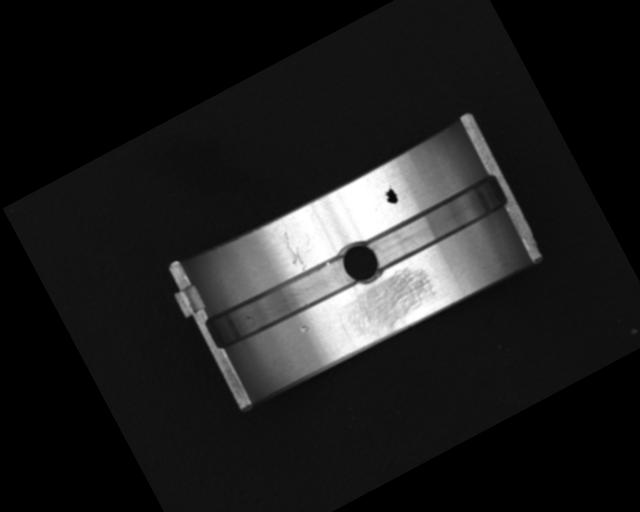blot: (379, 182, 401, 208)
bruise: (297, 322, 311, 335)
gap: (204, 246, 360, 356), (362, 171, 510, 274)
hole: (333, 234, 386, 291)
nick: (276, 227, 310, 274)
scratch: (337, 259, 445, 348)
